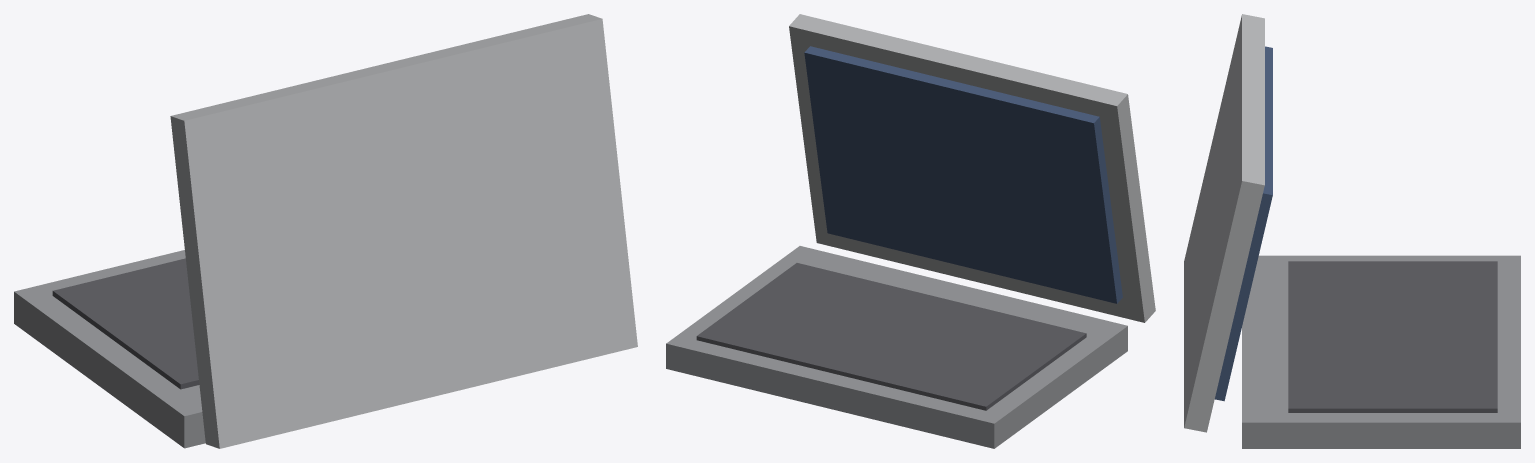
File: elet_notebook.glb
3 renders of one model, left to right at view 1: azimuth 30°, elevation 25°; view 2: azimuth 150°, elevation 25°; view 3: azimuth 270°, elevation 25°, orthographic. The views are drawn at different scales.
Parts seen in each view (by area): view 1: ELET_Notebook_v01; view 2: ELET_Notebook_v01; view 3: ELET_Notebook_v01.
Part boxes in pixels (x1=…): ELET_Notebook_v01: x1=14, y1=14, x2=637, y2=448; ELET_Notebook_v01: x1=666, y1=14, x2=1155, y2=448; ELET_Notebook_v01: x1=1184, y1=14, x2=1520, y2=448.
Size of the model in its own units: 0.34 by 0.2545 by 0.2897.
